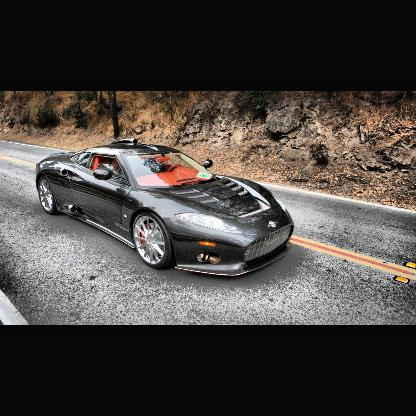Spyker C8 Coupe 2009: (36, 140, 295, 279)
